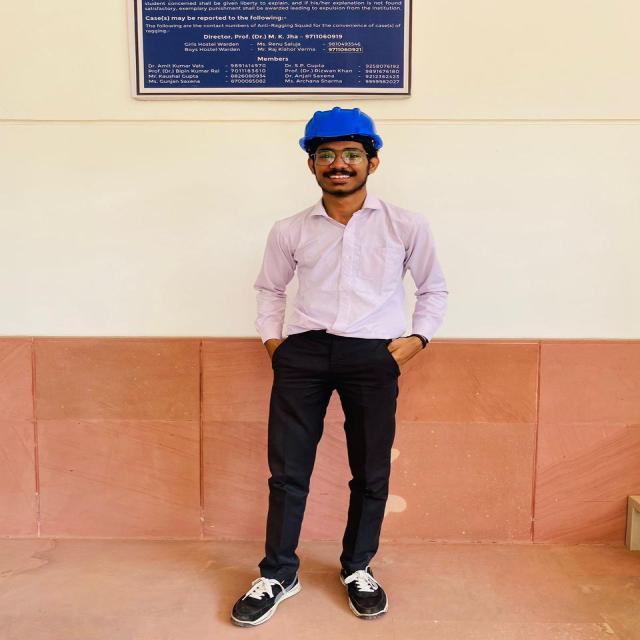no jacket: (252, 109, 438, 627)
